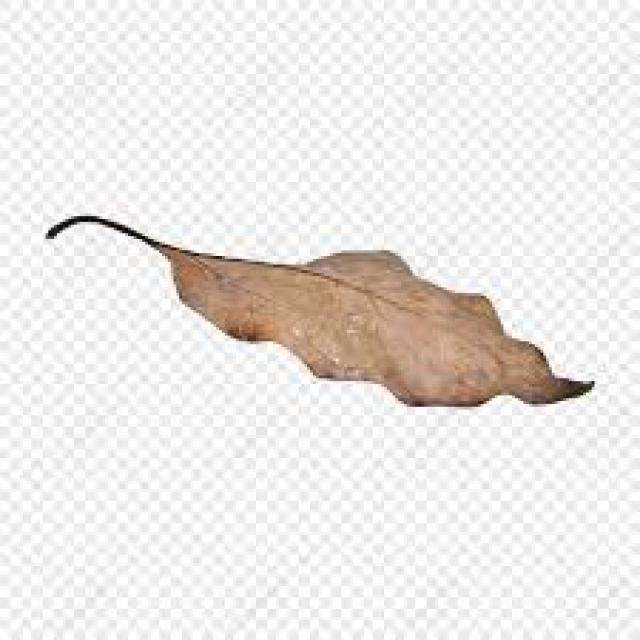leaf: (45, 213, 594, 409)
